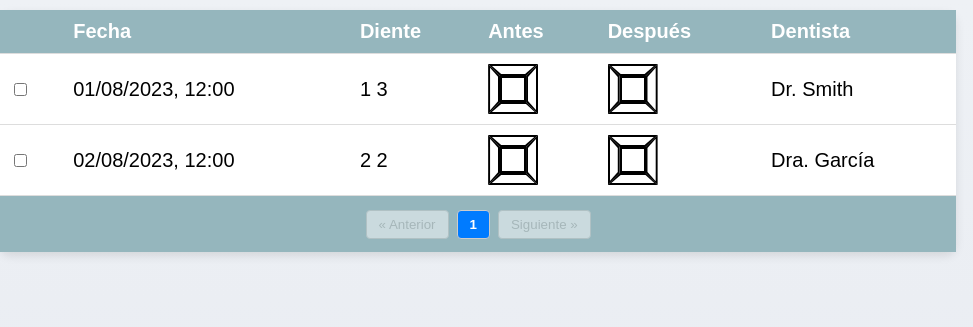
Test case: Historial › permite seleccionar dos registros y mostrar botón de comparar
The width and height of the screenshot is (973, 327).
Click the row with test id "2023-08-01T12:00:00.000Z".
click(478, 89)  # box [0,54,956,124]
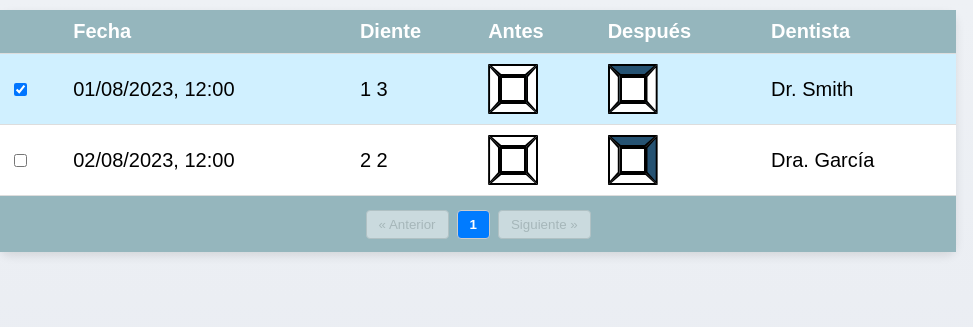
Click the row with test id "2023-08-02T12:00:00.000Z".
click(478, 160)  # box [0,124,956,196]
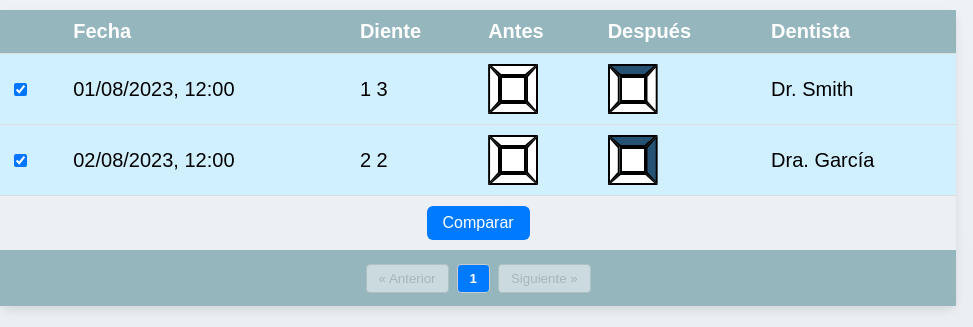
Now the button "Comparar" is shown, box [426,206,530,240]
